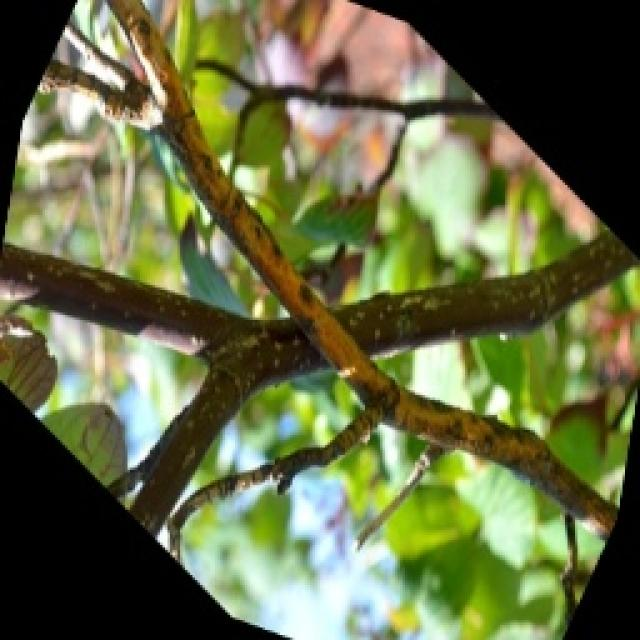Golden_canker: (17, 0, 635, 585)
